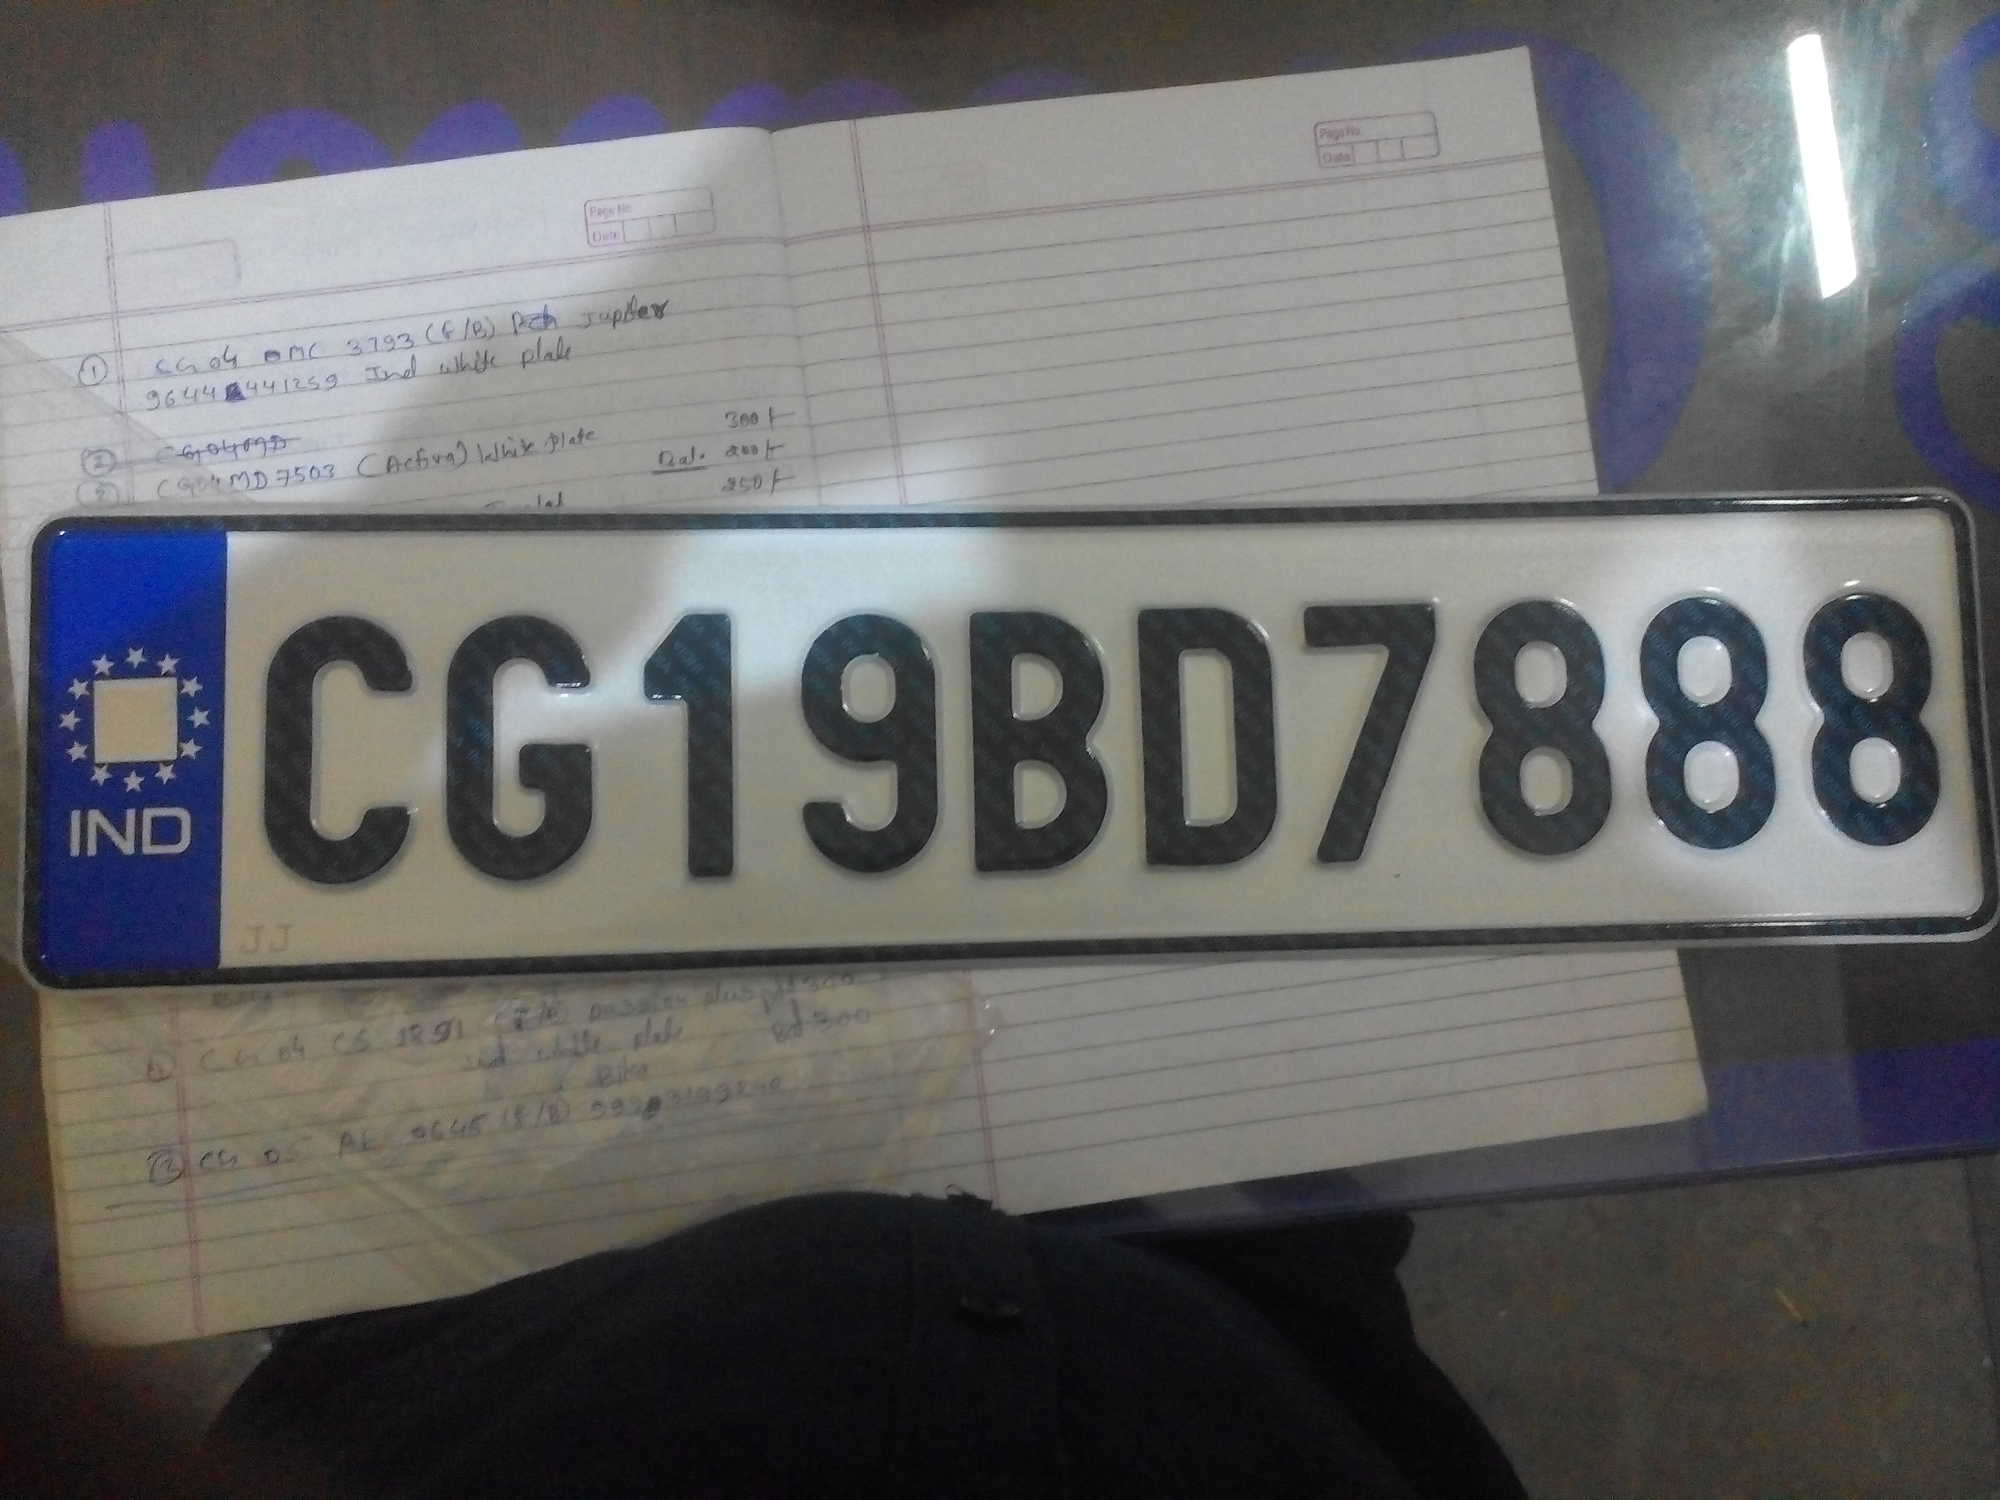numberplate: (21, 479, 2000, 997)
